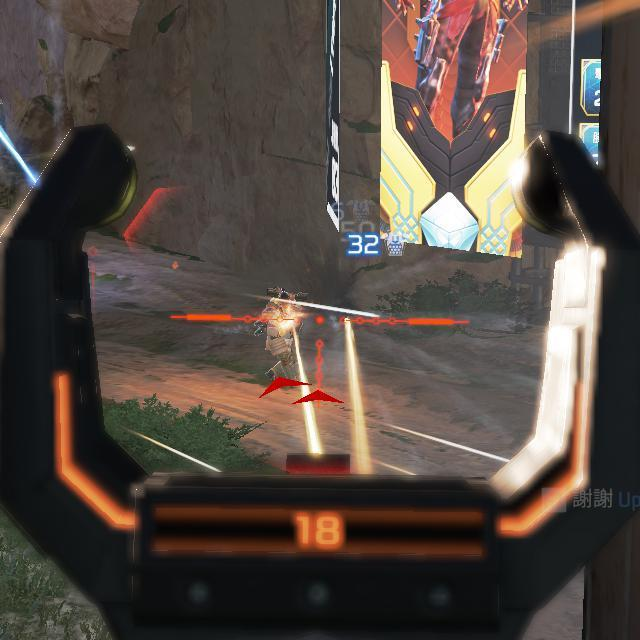avatar: (262, 284, 310, 377)
